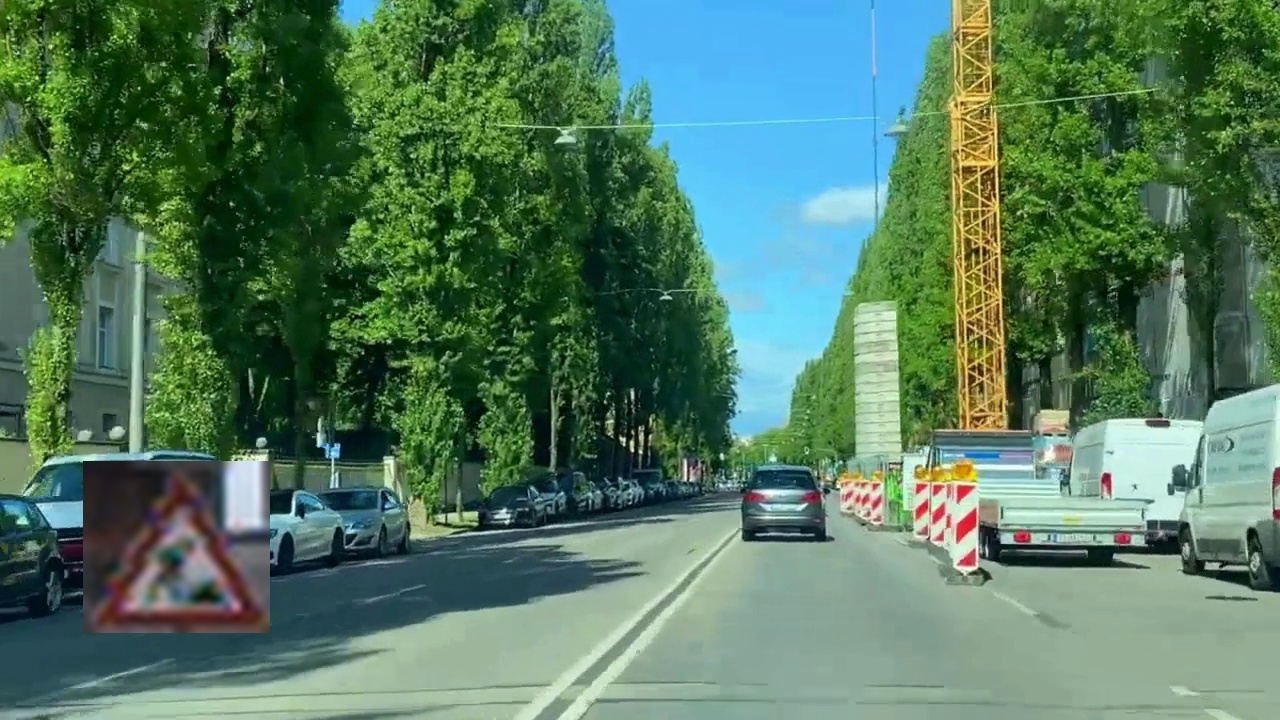Road work: (83, 461, 270, 633)
